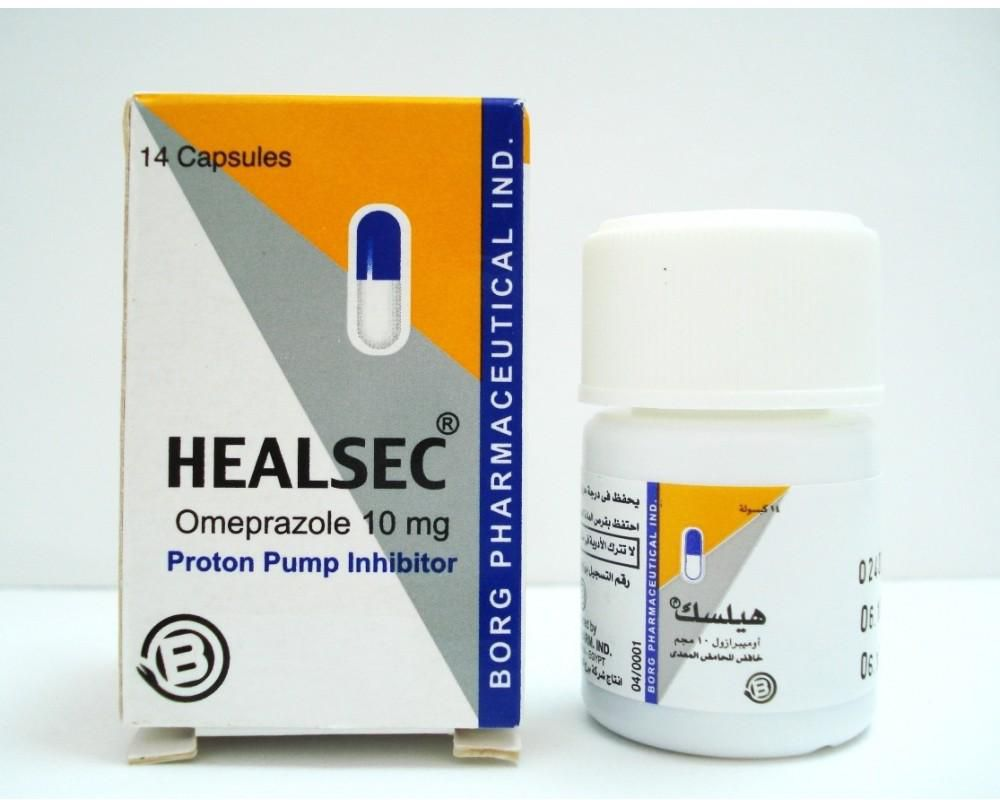Medicine: (108, 72, 528, 766), (566, 206, 906, 766)
